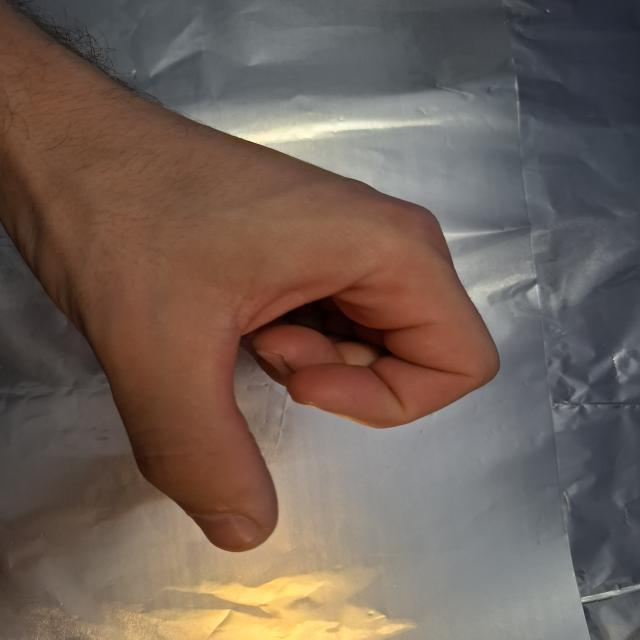glove_off: (5, 112, 504, 556)
